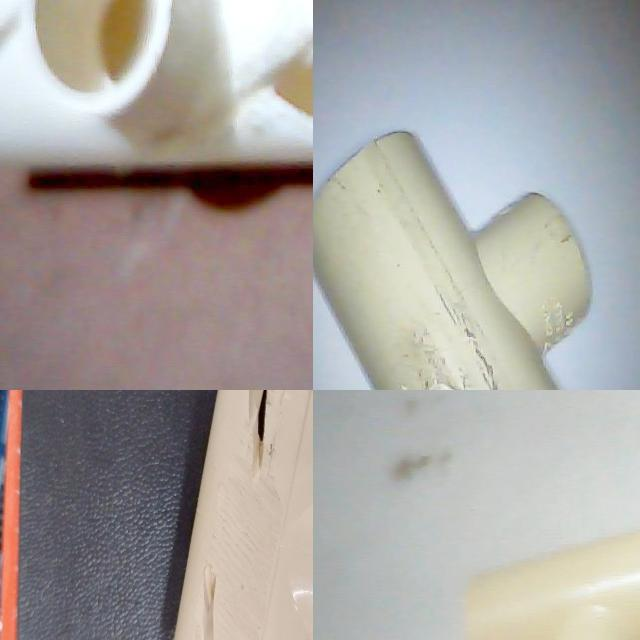Defective: (154, 390, 198, 508), (262, 36, 313, 116), (0, 566, 80, 607)
T Joint: (0, 390, 308, 640), (313, 130, 593, 390), (465, 529, 640, 640)
